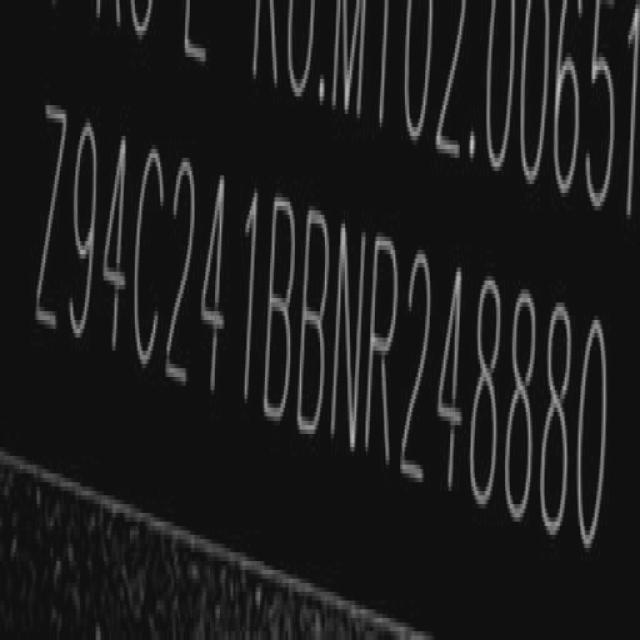0: (577, 320, 609, 552)
1: (242, 192, 258, 401)
2: (167, 154, 197, 385), (401, 247, 431, 477)
4: (198, 172, 228, 398), (101, 130, 129, 357), (438, 268, 464, 497)
8: (470, 268, 502, 510), (506, 286, 538, 518), (542, 300, 572, 531)
9: (69, 117, 101, 346)
B: (264, 198, 296, 416), (298, 208, 329, 428)
C: (133, 141, 166, 367)
N: (334, 222, 367, 453)
R: (367, 227, 398, 469)
Z: (36, 99, 70, 348)
